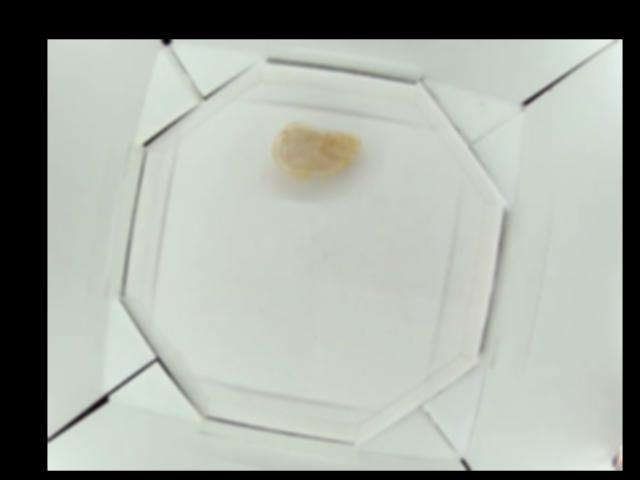Pebble: (274, 116, 363, 180)
